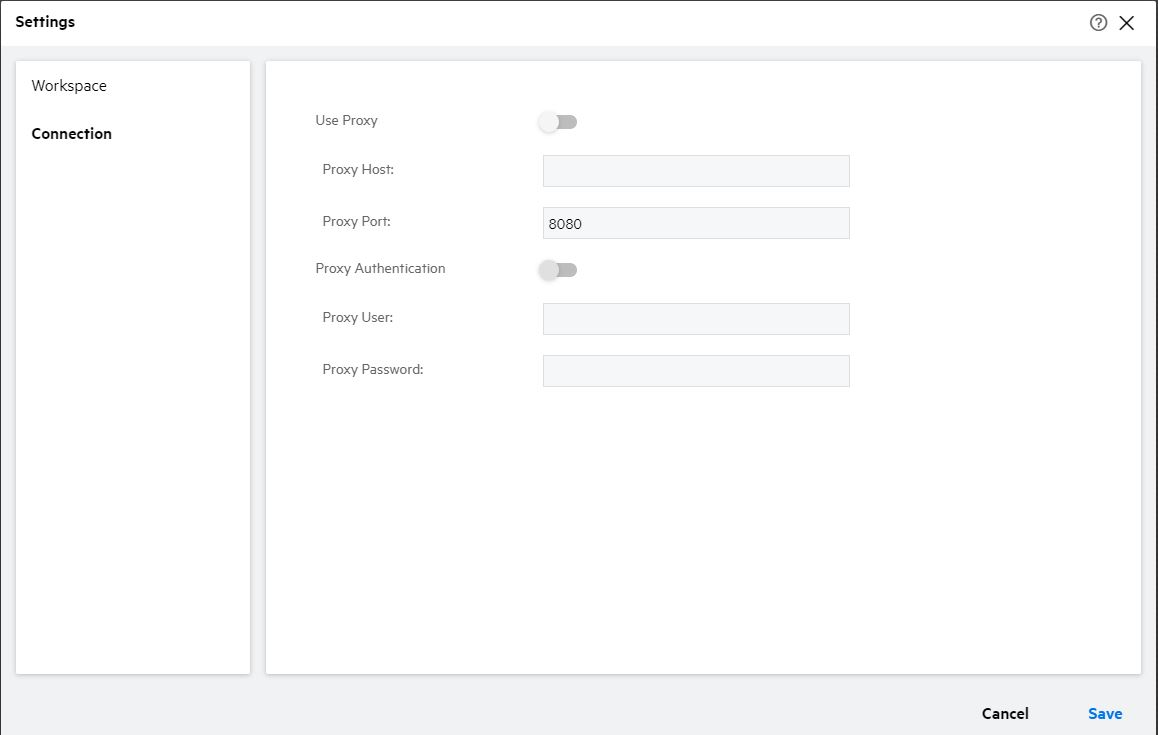button: (965, 696, 1050, 732), (1069, 695, 1137, 730)
checkbox: (532, 104, 597, 136), (529, 257, 601, 284)
textbox: (530, 346, 853, 401), (531, 199, 862, 249), (531, 292, 858, 341), (531, 149, 856, 195)
